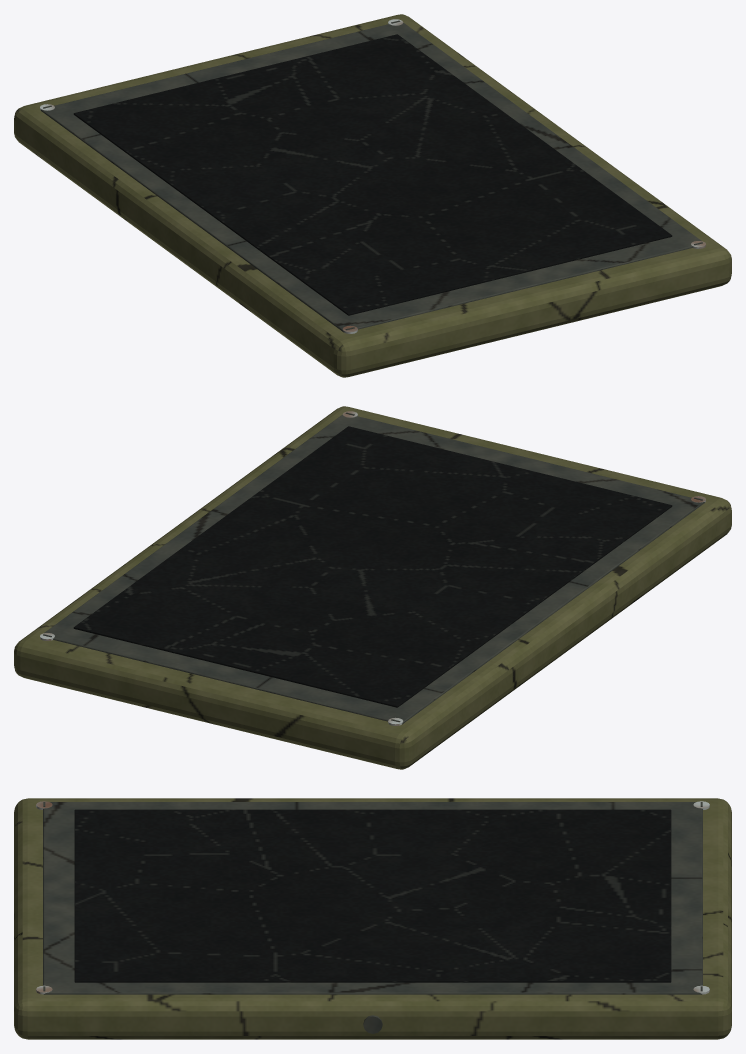
The model's file is data_tablet_aged.glb.
The picture shows the model from 3 angles, top to bottom: view 1: azimuth 30°, elevation 25°; view 2: azimuth 150°, elevation 25°; view 3: azimuth 270°, elevation 25°; orthographic projection. The views are drawn at different scales.
Parts seen in each view (by area): view 1: DarkScreen, Shell, ScreenBezel; view 2: DarkScreen, Shell, ScreenBezel; view 3: DarkScreen, Shell, ScreenBezel.
Part boxes in pixels (box(x1,y1,x2,y2)): DarkScreen: box(73, 34, 672, 315); Shell: box(14, 14, 731, 377); ScreenBezel: box(41, 22, 701, 332); DarkScreen: box(73, 426, 672, 707); Shell: box(14, 406, 731, 769); ScreenBezel: box(44, 414, 704, 724); DarkScreen: box(74, 809, 671, 982); Shell: box(14, 798, 731, 1039); ScreenBezel: box(43, 802, 702, 994).
Bounding box in the file's own units: 0.181 × 0.0175 × 0.26.
4 materials, 4 textured.
